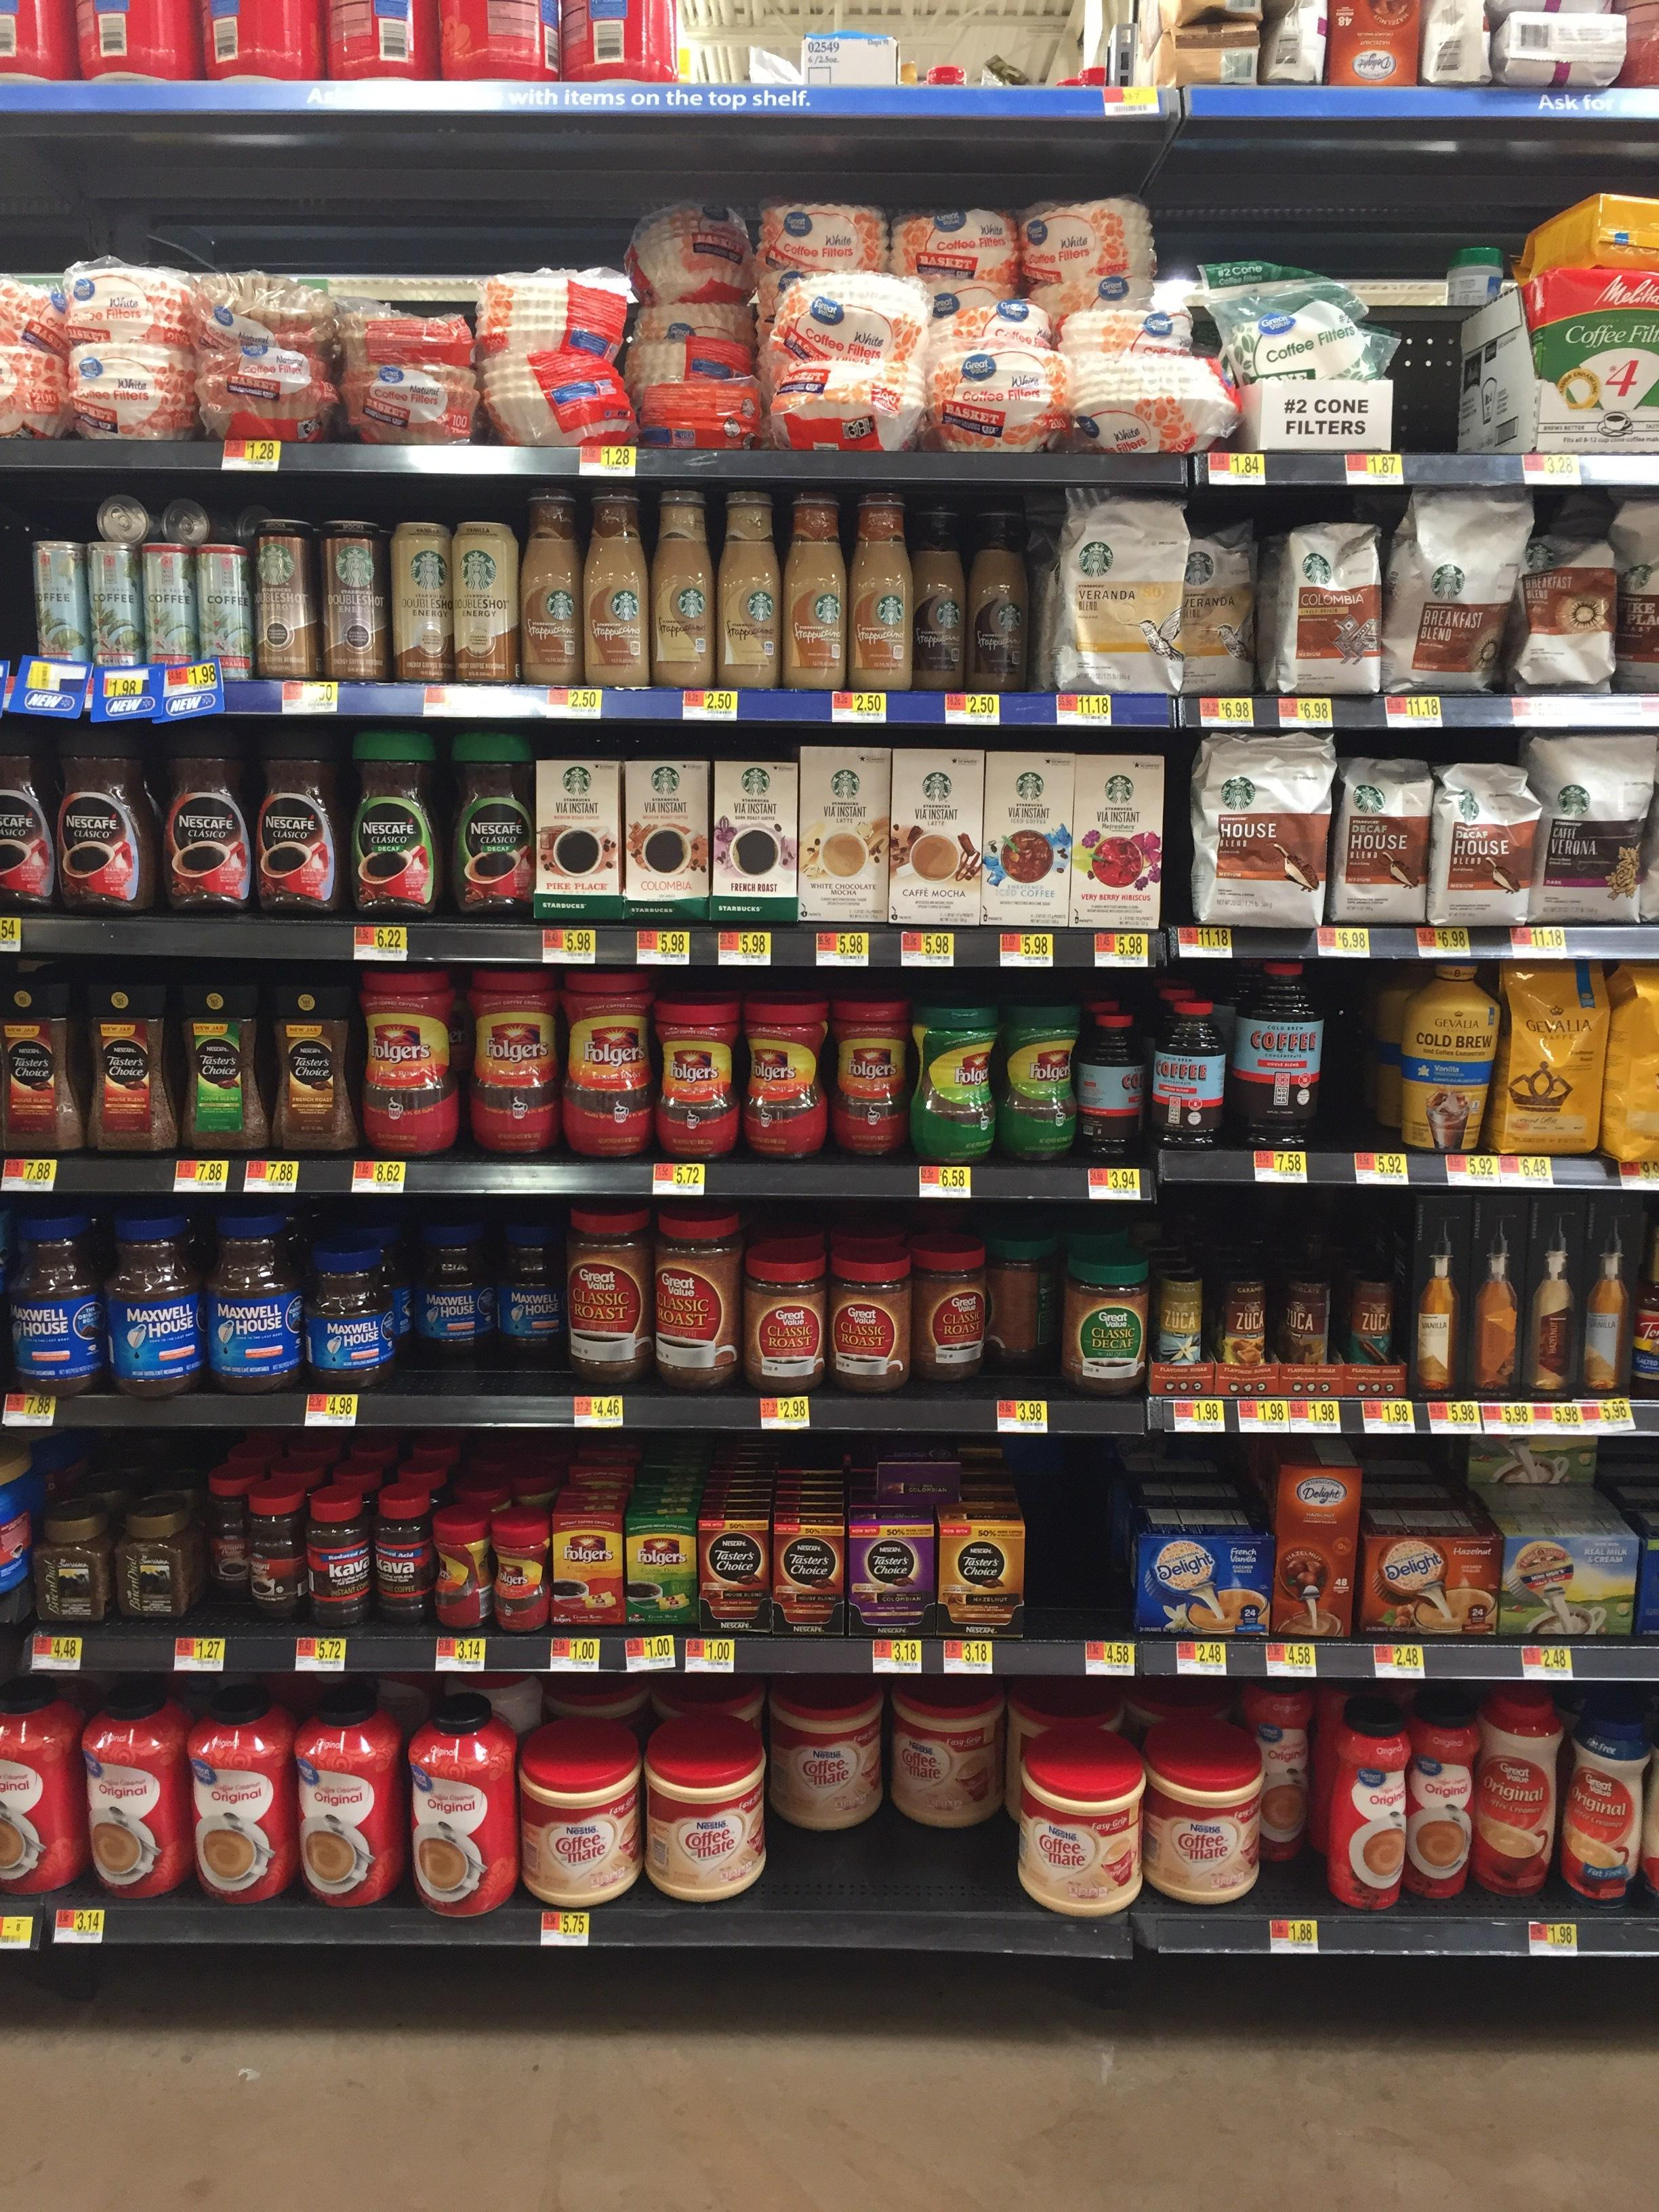empty: (383, 1219, 565, 1388), (1251, 1726, 1347, 1909), (1025, 1487, 1129, 1630), (885, 1763, 990, 1905), (765, 1763, 870, 1904), (1392, 260, 1464, 455), (1323, 977, 1399, 1151)
